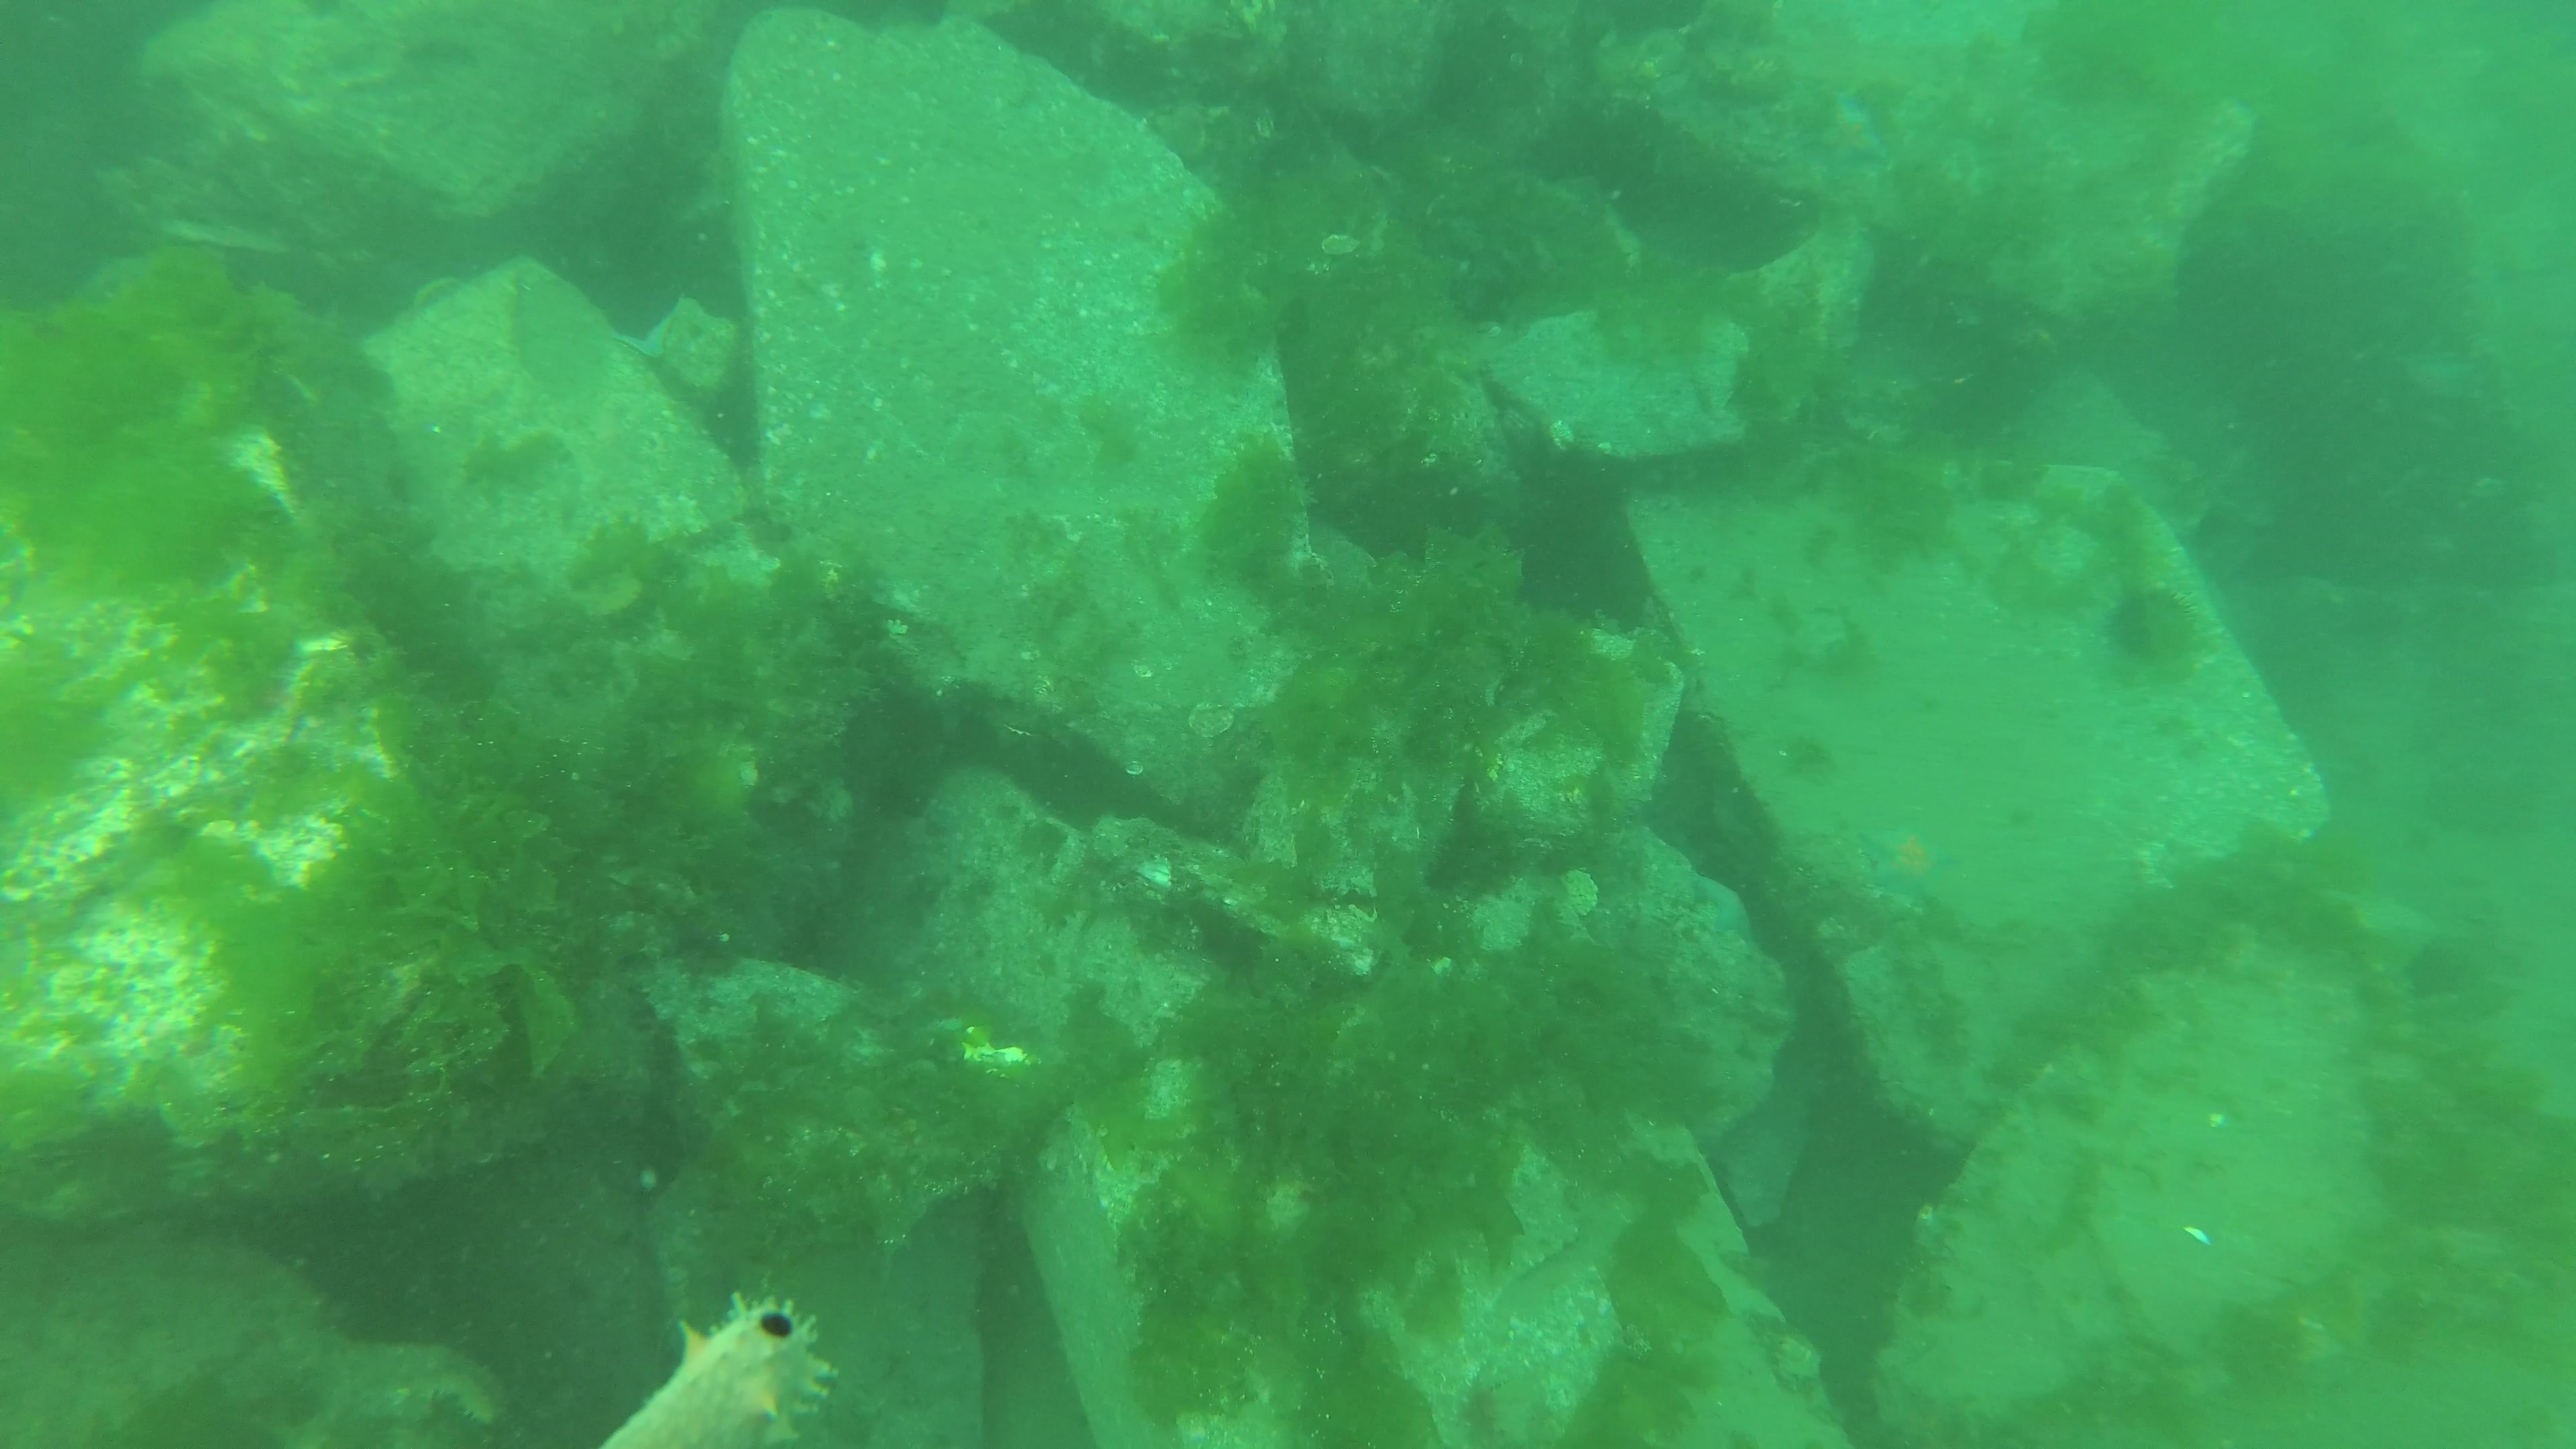echinus: (2098, 582, 2204, 663)
holothurian: (594, 1284, 842, 1449)
starfish: (1859, 823, 1959, 897), (1693, 872, 1753, 943), (1709, 782, 1755, 849), (610, 313, 674, 359)
